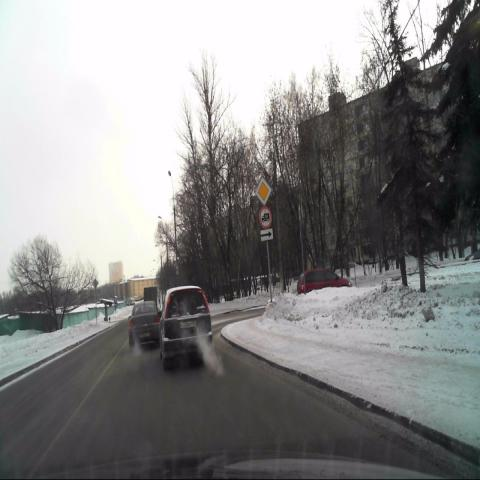3_4: (259, 208, 271, 229)
